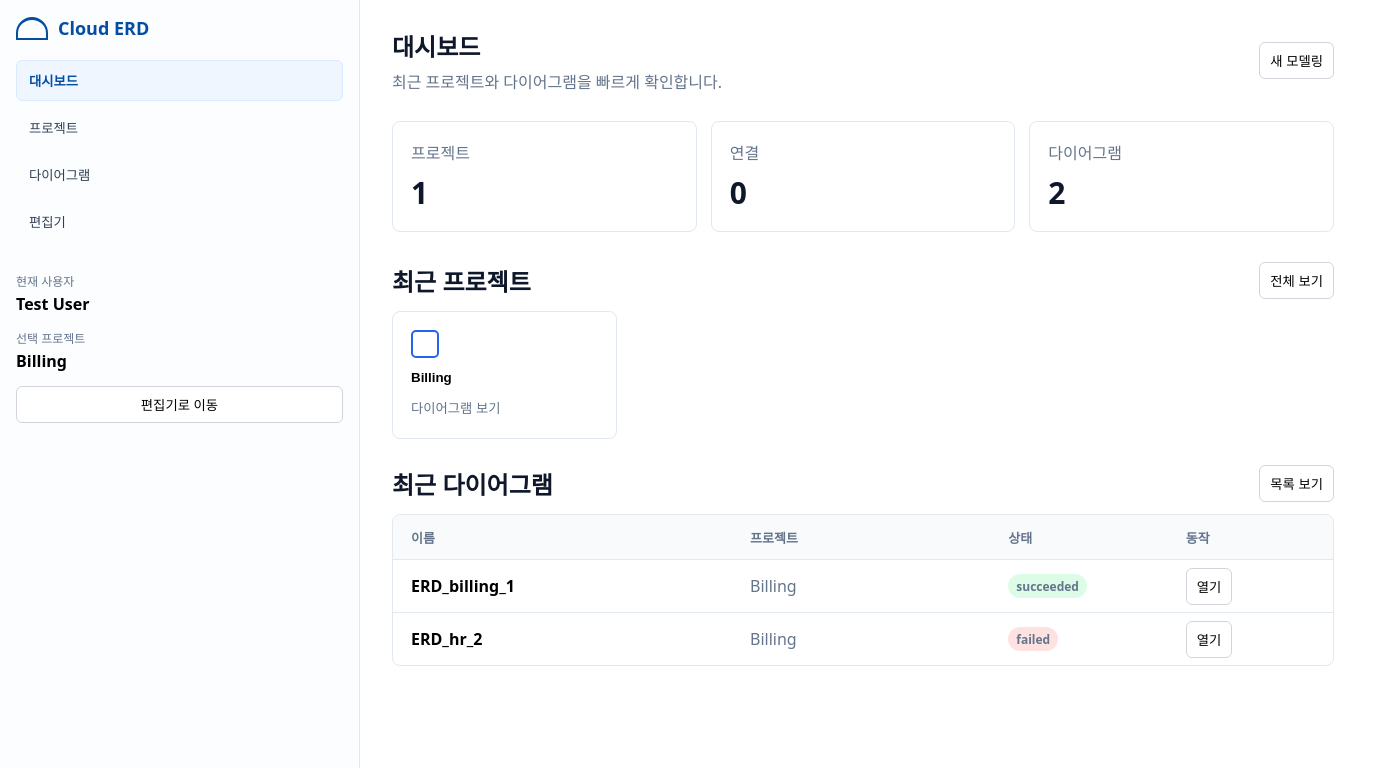
Test case: App edit functionality › renders compact visual labels while preserving toolbar accessible names
Step 1. Click the button "편집기" → (47, 222), box [16,201,343,242]
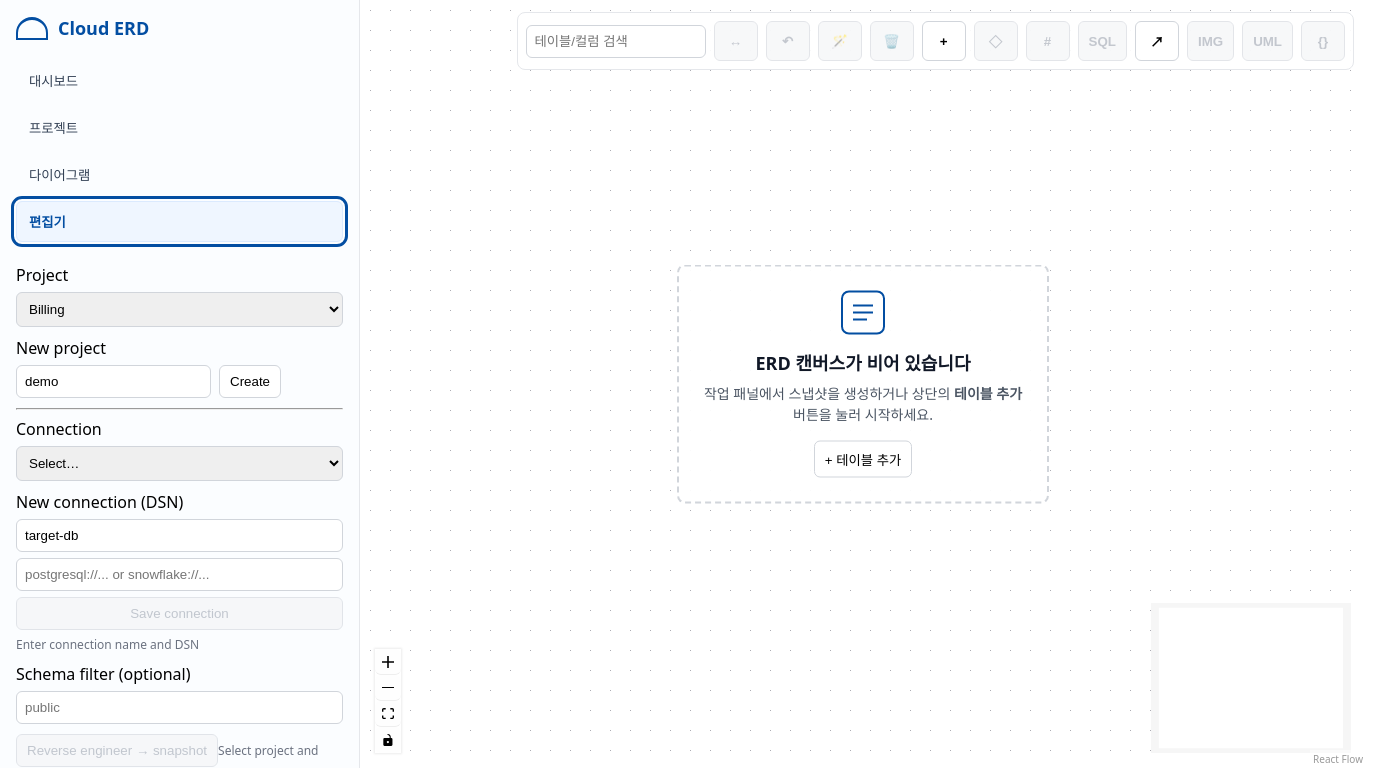
Result: the element named "ERD 캔버스 도구" is shown at [516,12,1354,70]
Result: the button named "ERD 자동 정렬" reads "↔" at [714,21,758,61]
Result: the button named "정렬 되돌리기" reads "↶" at [766,21,810,61]
